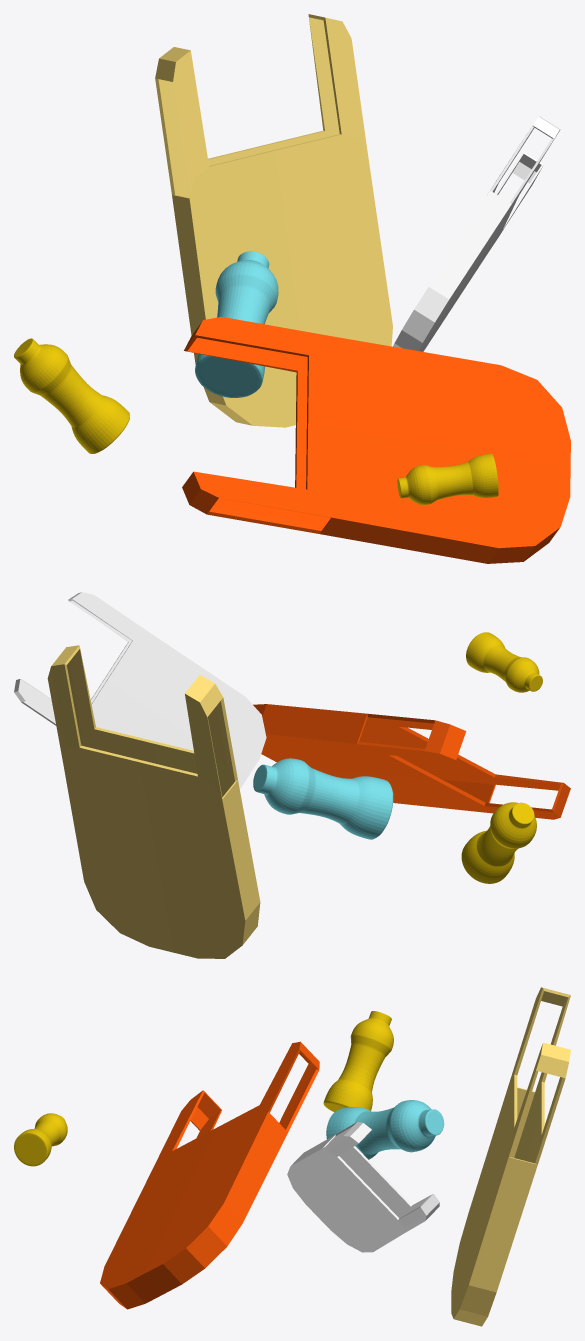
File: LIXOSNuvemToxica.fbx
3 views of the same model, one above another, from view 1: azimuth 30°, elevation 25°; view 2: azimuth 150°, elevation 25°; view 3: azimuth 270°, elevation 25° (orthographic). The views are drawn at different scales.
Visible parts, largest first — view 1: Cube.003, Cube.002, Cube.004, Circle.007, Circle.005, Circle.006; view 2: Cube.002, Cube.003, Cube.004, Circle.005, Circle.007, Circle.006; view 3: Cube.003, Cube.002, Cube.004, Circle.005, Circle.007, Circle.006.
Part boxes in pixels (box(x1,y1,x2,y2)): Cube.003: box(182, 316, 570, 563); Cube.002: box(155, 14, 392, 427); Cube.004: box(393, 116, 560, 351); Circle.007: box(14, 338, 129, 453); Circle.005: box(195, 251, 278, 397); Circle.006: box(397, 453, 498, 504); Cube.002: box(47, 645, 260, 958); Cube.003: box(253, 704, 570, 819); Cube.004: box(14, 592, 266, 789); Circle.005: box(253, 758, 393, 839); Circle.007: box(461, 802, 536, 883); Circle.006: box(466, 632, 542, 692); Cube.003: box(100, 1041, 319, 1309); Cube.002: box(451, 987, 570, 1326); Cube.004: box(287, 1121, 439, 1252); Circle.005: box(326, 1100, 444, 1159); Circle.007: box(323, 1011, 393, 1112); Circle.006: box(14, 1113, 67, 1166).
Size of the model in its own units: 0.9052 by 0.5559 by 0.9525.
